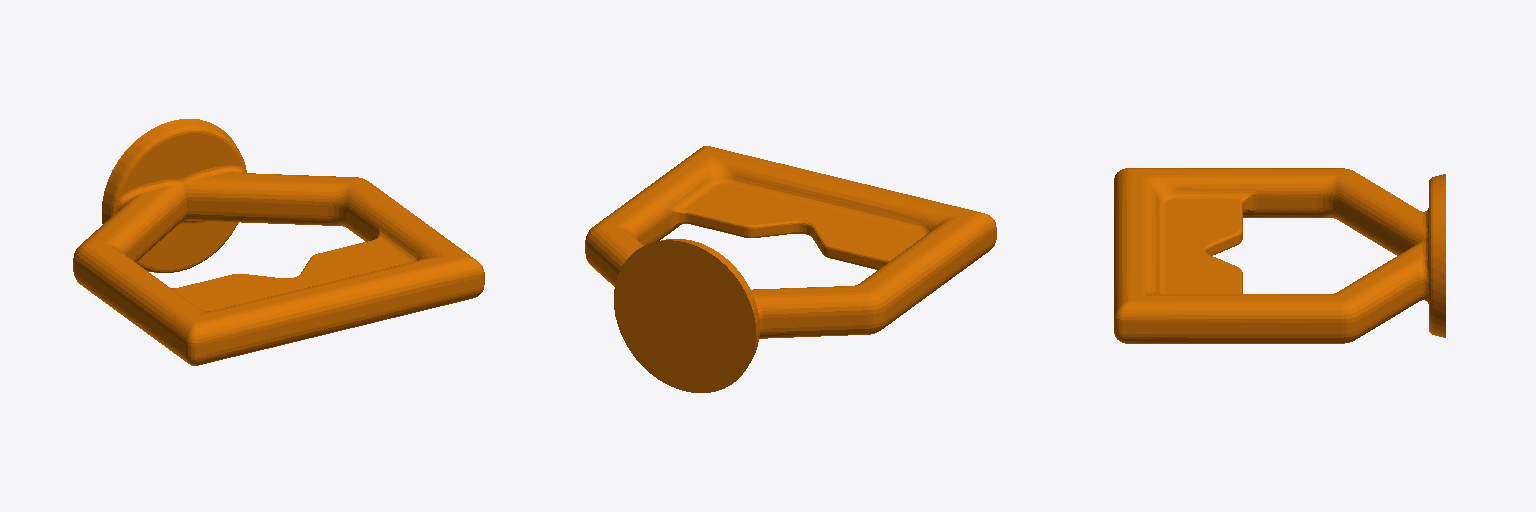
The model's file is bluelogic_notext.obj.
3 renders of one model, left to right at view 1: azimuth 30°, elevation 25°; view 2: azimuth 150°, elevation 25°; view 3: azimuth 270°, elevation 25°, orthographic.
Visible parts, largest first — view 1: Solid2; view 2: Solid2; view 3: Solid2.
Part boxes in pixels (left/top/right/bottom): Solid2: left=73, top=119, right=484, bottom=365; Solid2: left=585, top=146, right=996, bottom=392; Solid2: left=1114, top=168, right=1445, bottom=343.
Size of the model in its own units: 120 by 57.47 by 116.